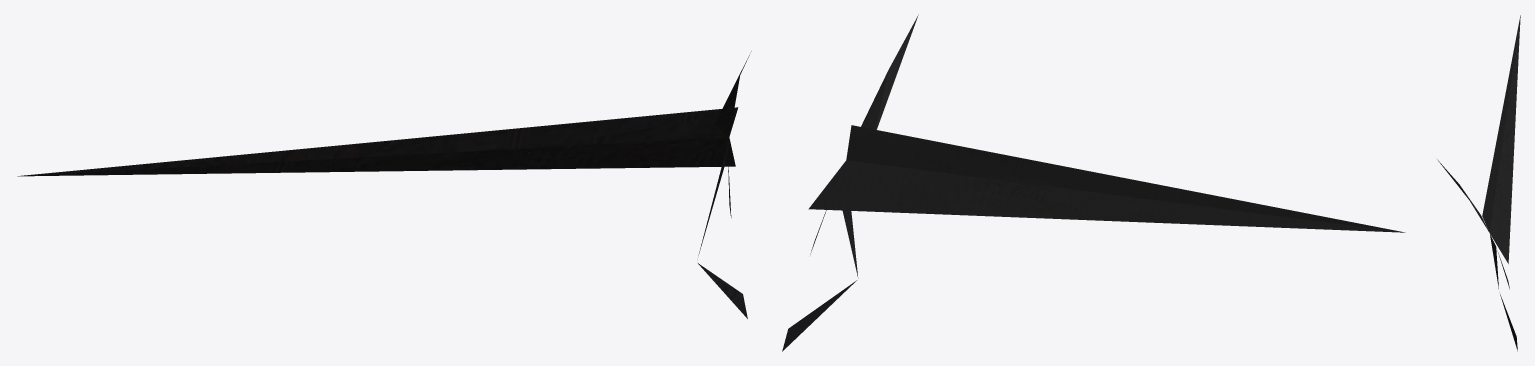
File: original-101.obj
The picture shows the model from 3 angles, left to right: view 1: azimuth 30°, elevation 25°; view 2: azimuth 150°, elevation 25°; view 3: azimuth 270°, elevation 25°; orthographic projection. The views are drawn at different scales.
Parts seen in each view (by area): view 1: mesh46/mesh46-geometry/material_0/component_0#mesh46-geometry; view 2: mesh46/mesh46-geometry/material_0/component_0#mesh46-geometry; view 3: mesh46/mesh46-geometry/material_0/component_0#mesh46-geometry.
Part boxes in pixels (x1,y1,x2,y2): mesh46/mesh46-geometry/material_0/component_0#mesh46-geometry: [17, 51, 751, 318]; mesh46/mesh46-geometry/material_0/component_0#mesh46-geometry: [782, 14, 1405, 351]; mesh46/mesh46-geometry/material_0/component_0#mesh46-geometry: [1437, 15, 1520, 351].
Size of the model in its own units: 0.0993 by 0.0457 by 0.0201.
2 materials, 1 textured.
